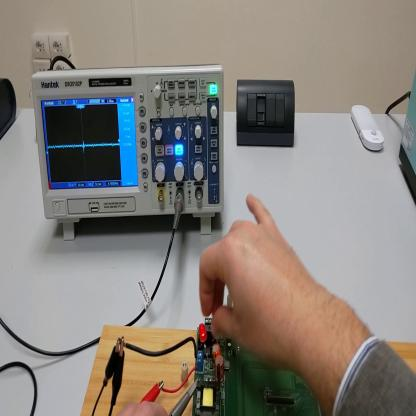hand: (201, 192, 314, 373), (121, 402, 167, 416)
low voltage board: (125, 318, 321, 416)
oscilloscope: (32, 65, 225, 241)
oscilloscope probe tip: (165, 380, 200, 415)
socket: (1, 77, 18, 146)
welder station: (398, 72, 416, 206)
working area: (81, 328, 416, 416)
